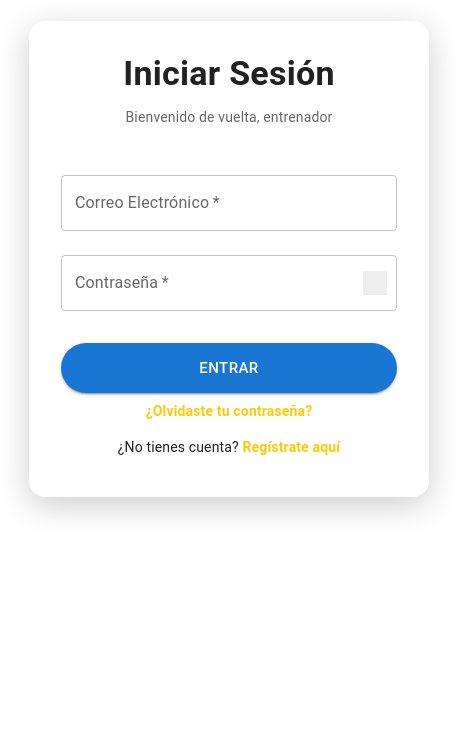
Test: Login Component › shows error msg with invalid credentials
The width and height of the screenshot is (459, 738).
Type "wrong@test.com" into the field labelled "Correo Electrónico *". click: (229, 203)
box: [61,175,397,231]
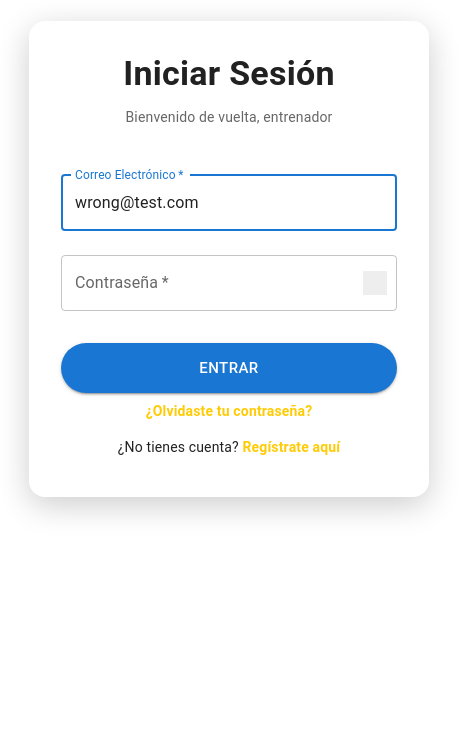
Type "badpass" into the password field labelled "Contraseña *". click: (204, 283)
box: [61,255,347,311]
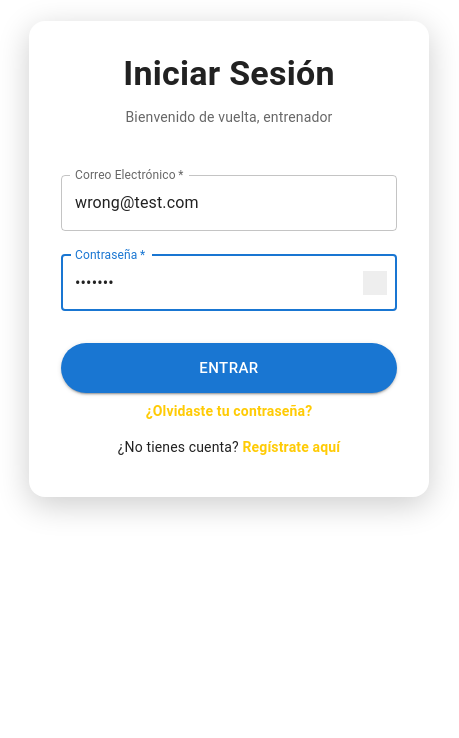
Click the button "Entrar". click: (229, 368)
box: [61,343,397,393]
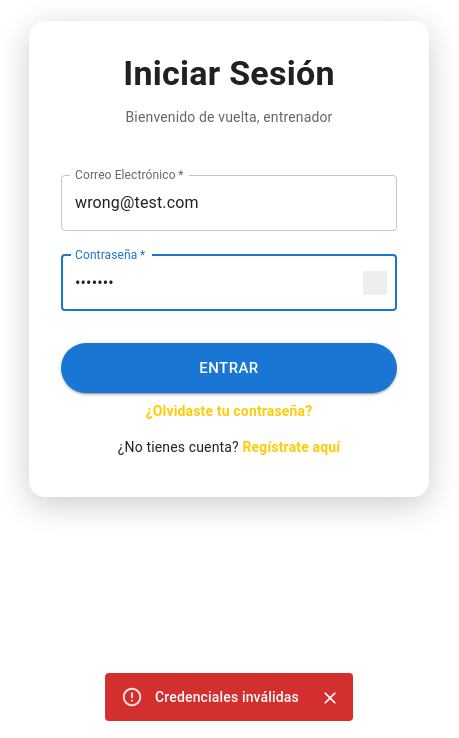
expect the text "Credenciales inválidas" is shown: met, box [155,689,299,705]
